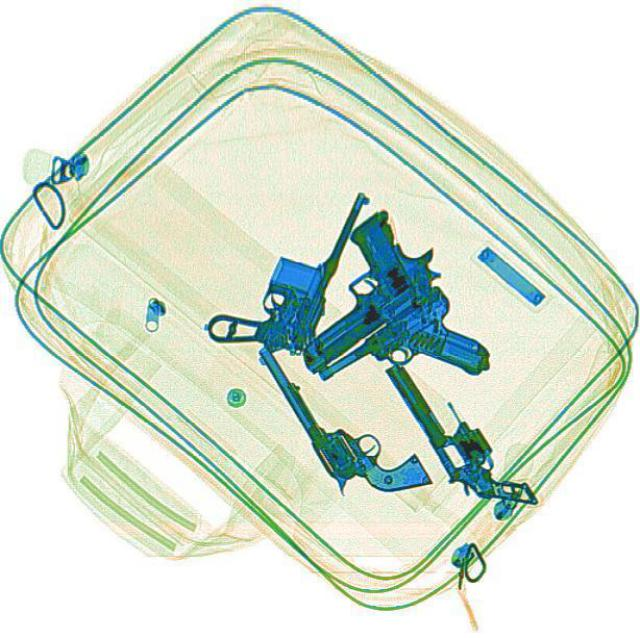Gun: (250, 310, 432, 522), (202, 160, 372, 368), (248, 199, 452, 371), (310, 280, 500, 444), (384, 338, 538, 529)
